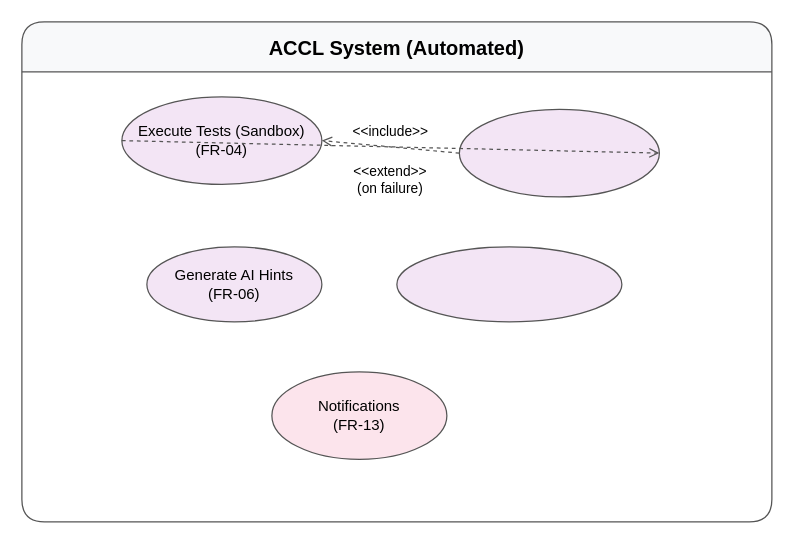
This 794x544 diagram has some shape labels left out. The shapes that lost their labels are listed below. From the top down, each one's centre as x and y in pixels, then its label:
At point 558,152: "Automated Grading (FR-05)".
At point 509,284: "Similarity / Plagiarism Check (FR-07)".
